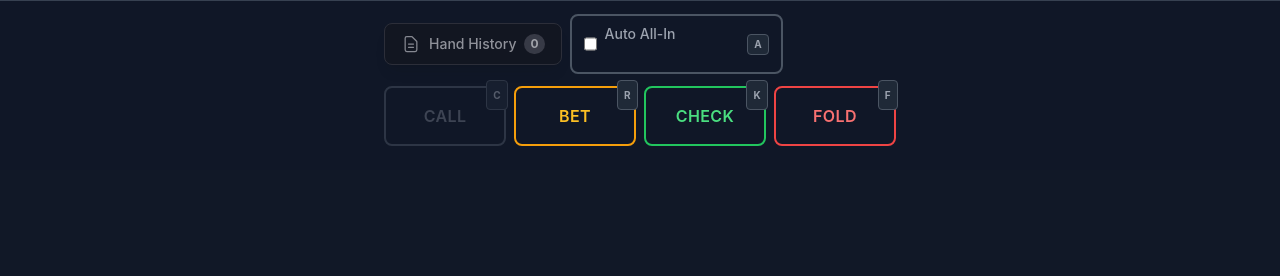
Test: ActionBar › raise panel › should show raise panel when raise button clicked
Click the button with test id "raise-button". click: click(575, 116)
box: x1=514 y1=86 x2=636 y2=146
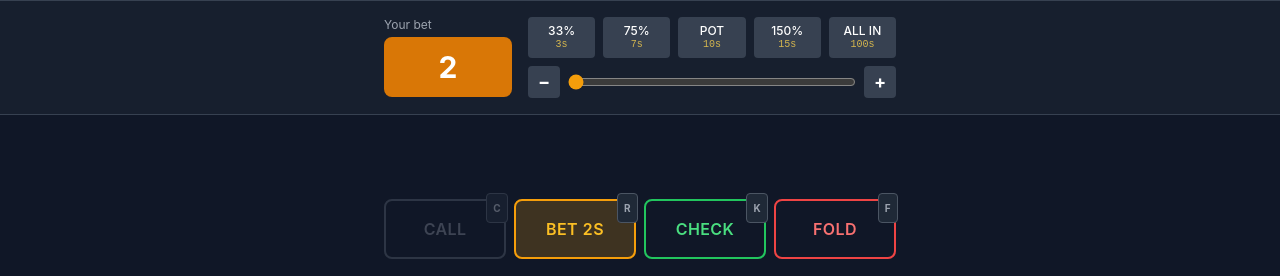
Result: the field with test id "bet-input" is shown at x1=400 y1=49 x2=496 y2=85
Result: the slider with test id "bet-slider" is shown at x1=568 y1=78 x2=856 y2=86
